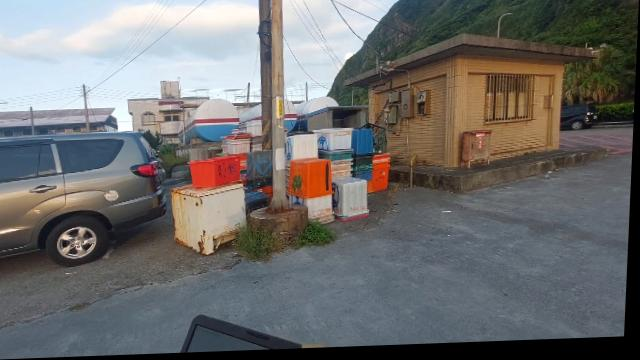pollute: (287, 128, 390, 226), (172, 184, 248, 256), (190, 156, 244, 190)
